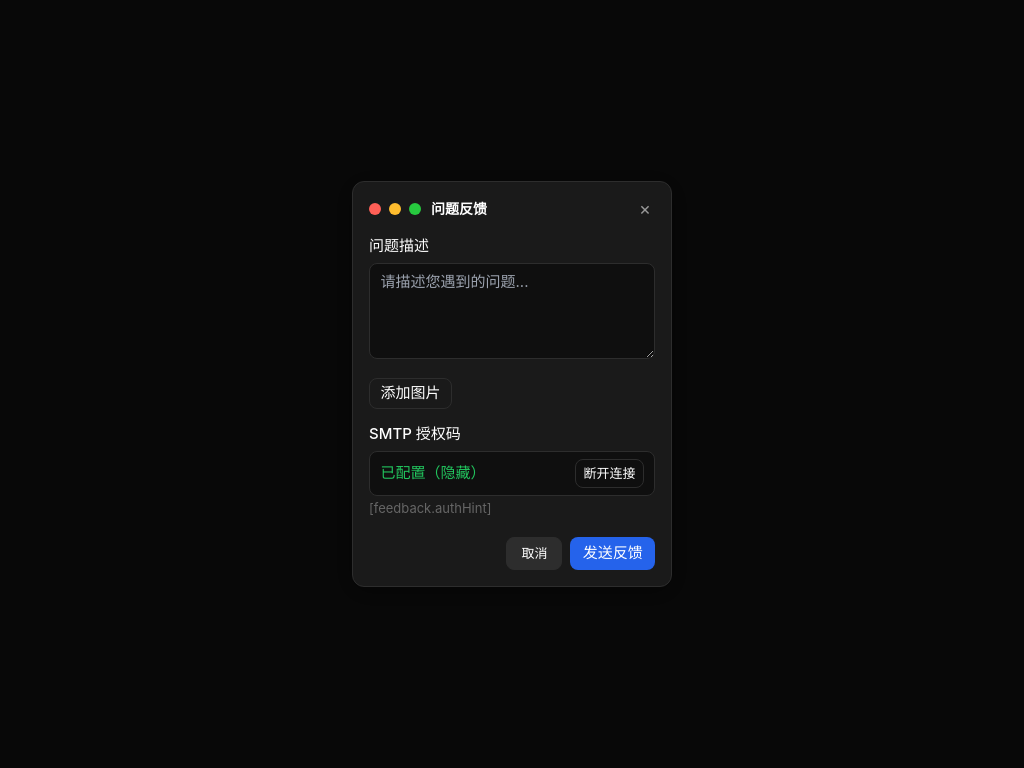
Test case: FeedbackModal › 配置授权码后填写描述 → 发送成功 toast（mail.send 携带 body + imagePaths）
Type "崩溃了" into the text box labelled "问题描述".
click(512, 311); type("崩溃了")  # box [369, 263, 655, 359]
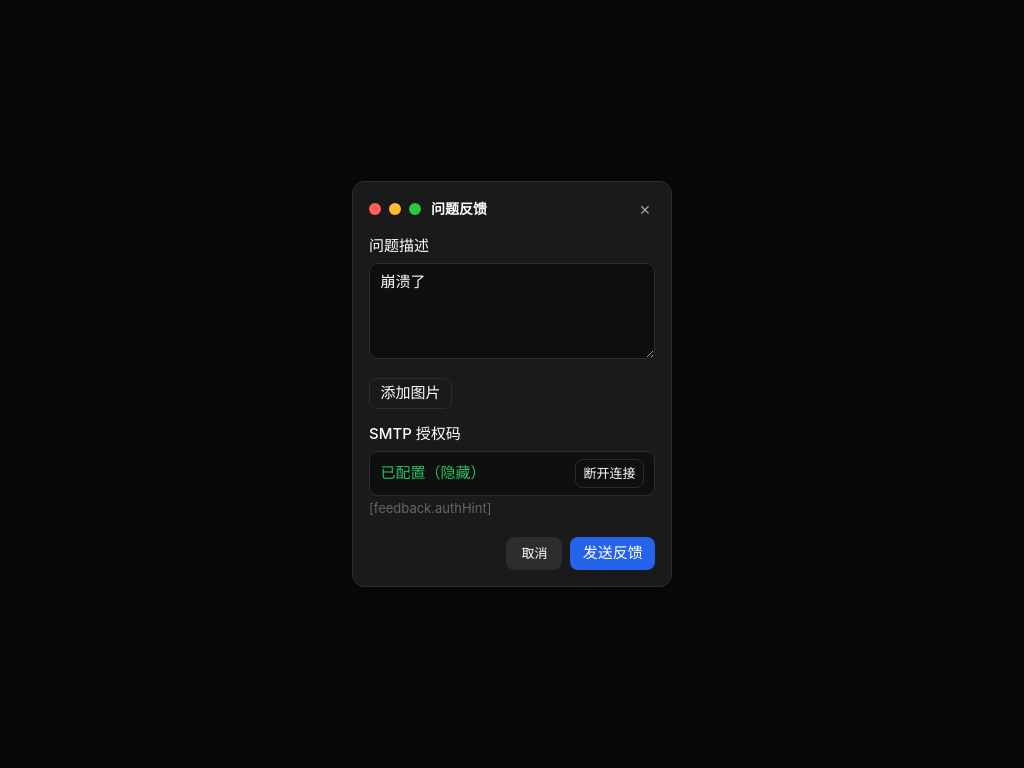
Click the button "发送反馈".
click(613, 553)  # box [570, 536, 655, 570]
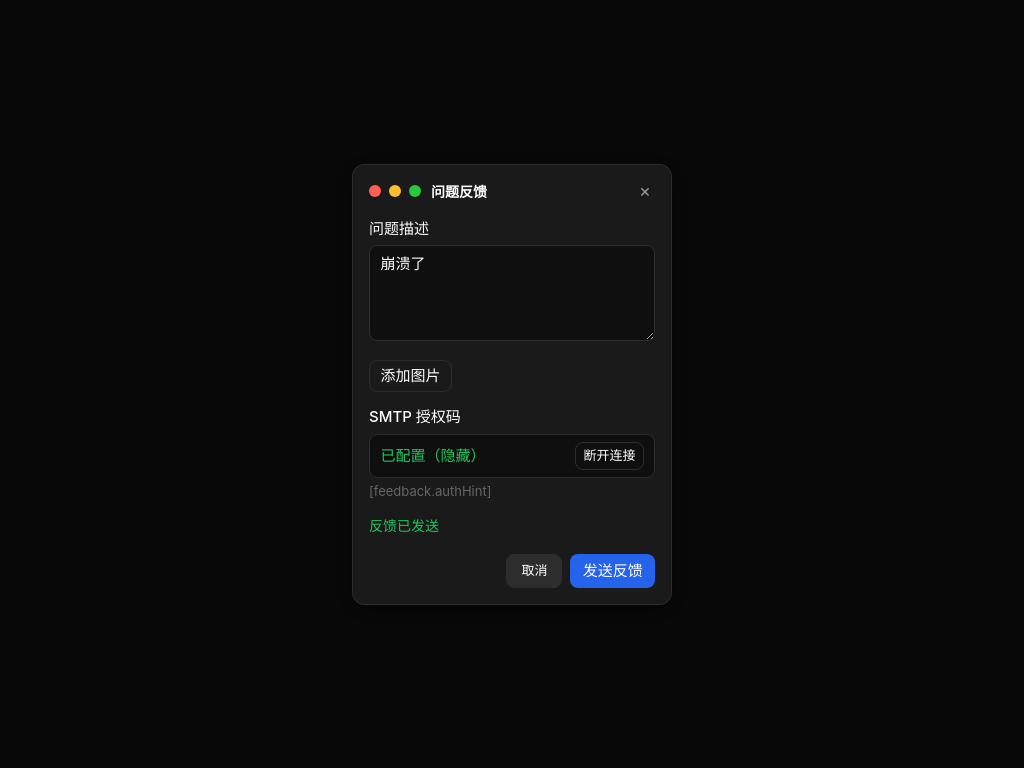
Expected: the text "反馈已发送" is shown, [369, 517, 439, 534]
